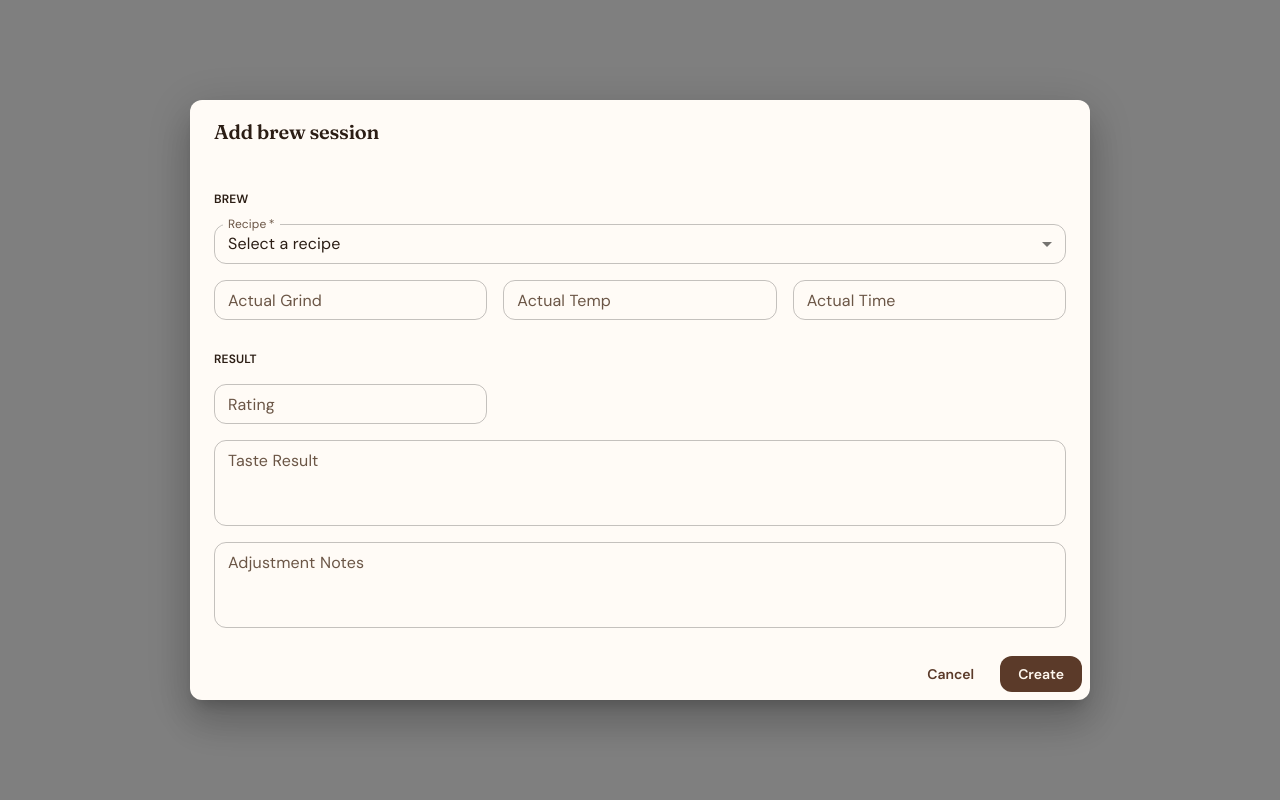
Test: BrewSessionFormDialog › blocks submit and shows the required error when no recipe is chosen
Step 1. Click the button "Create" → (1041, 674), box top-left (1000, 656), bottom-right (1082, 692)
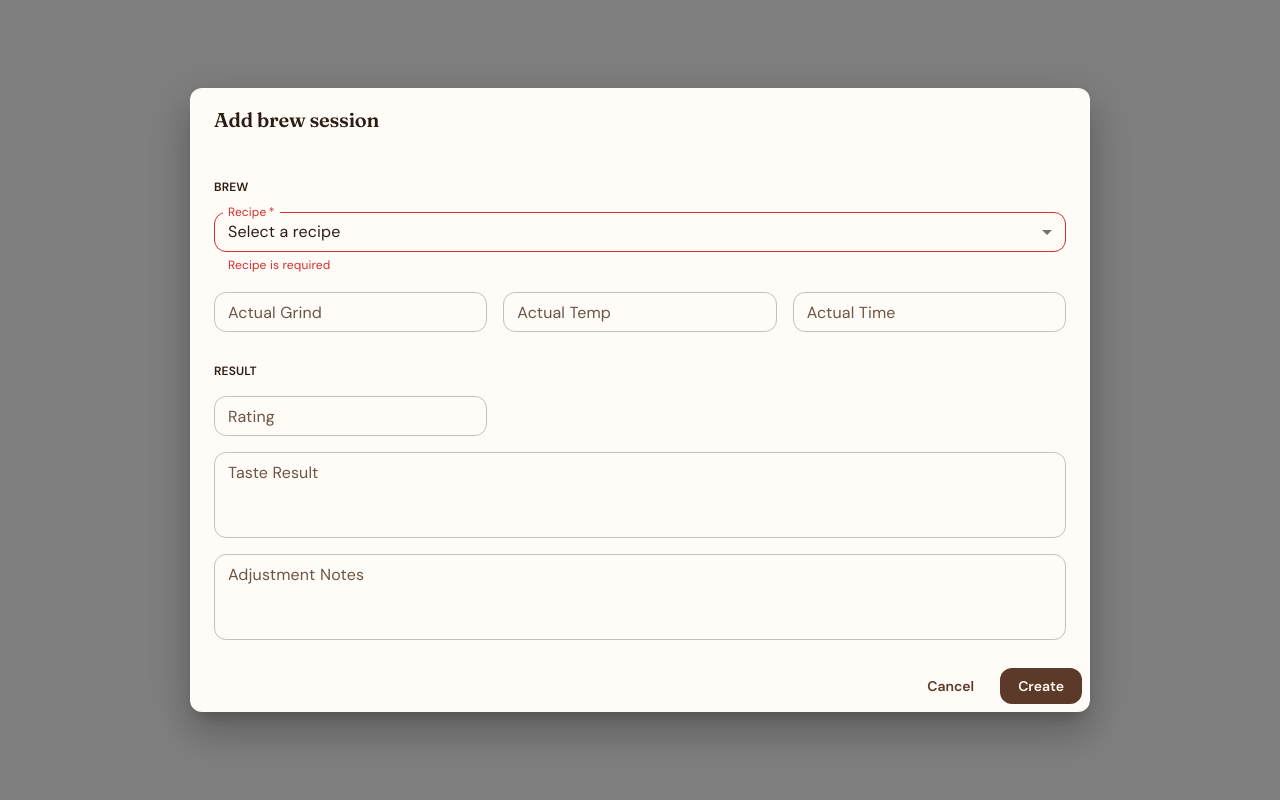
Expected: the text "Recipe is required" is shown, top-left (228, 257), bottom-right (330, 273)
